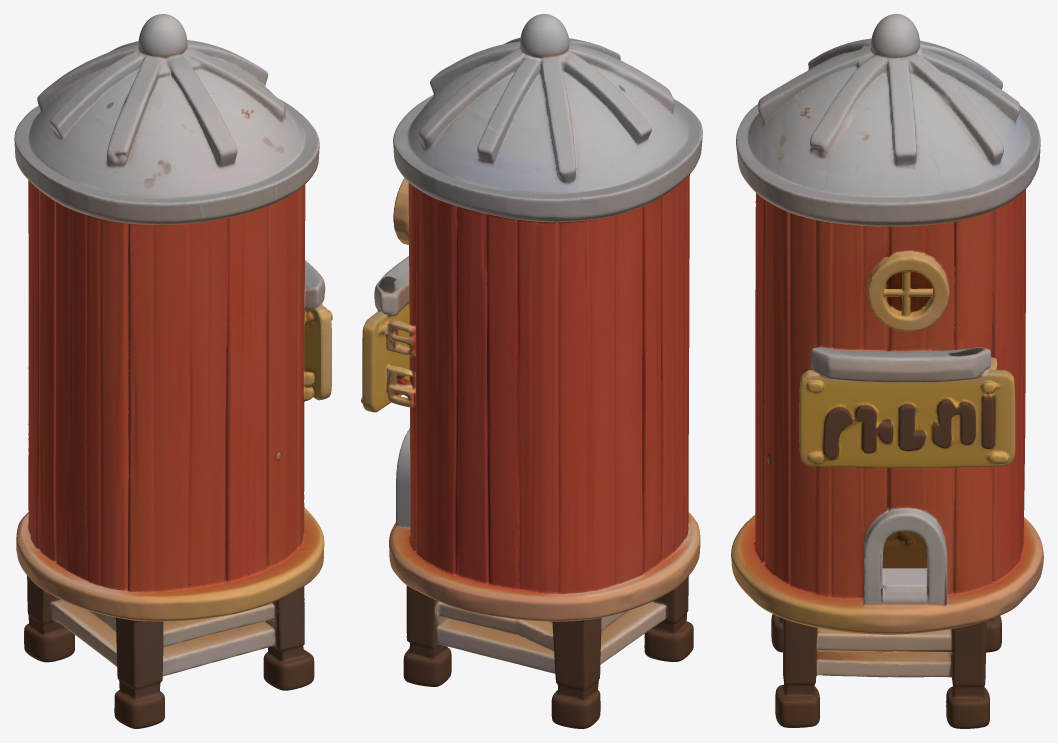
The model's file is silo.glb.
3 renders of one model, left to right at view 1: azimuth 30°, elevation 25°; view 2: azimuth 150°, elevation 25°; view 3: azimuth 270°, elevation 25°, orthographic. The views are drawn at different scales.
Visible parts, largest first — view 1: tripo_node_4670778d-05d3-4518-be91-b1f250deafbb; view 2: tripo_node_4670778d-05d3-4518-be91-b1f250deafbb; view 3: tripo_node_4670778d-05d3-4518-be91-b1f250deafbb.
Boxes of the visible parts, box(x1,y1,x2,y2) form: tripo_node_4670778d-05d3-4518-be91-b1f250deafbb: box(14, 14, 332, 728); tripo_node_4670778d-05d3-4518-be91-b1f250deafbb: box(361, 14, 702, 728); tripo_node_4670778d-05d3-4518-be91-b1f250deafbb: box(731, 14, 1043, 728).
Size of the model in its own units: 0.4277 by 1 by 0.4256.
1 material, 1 textured.
